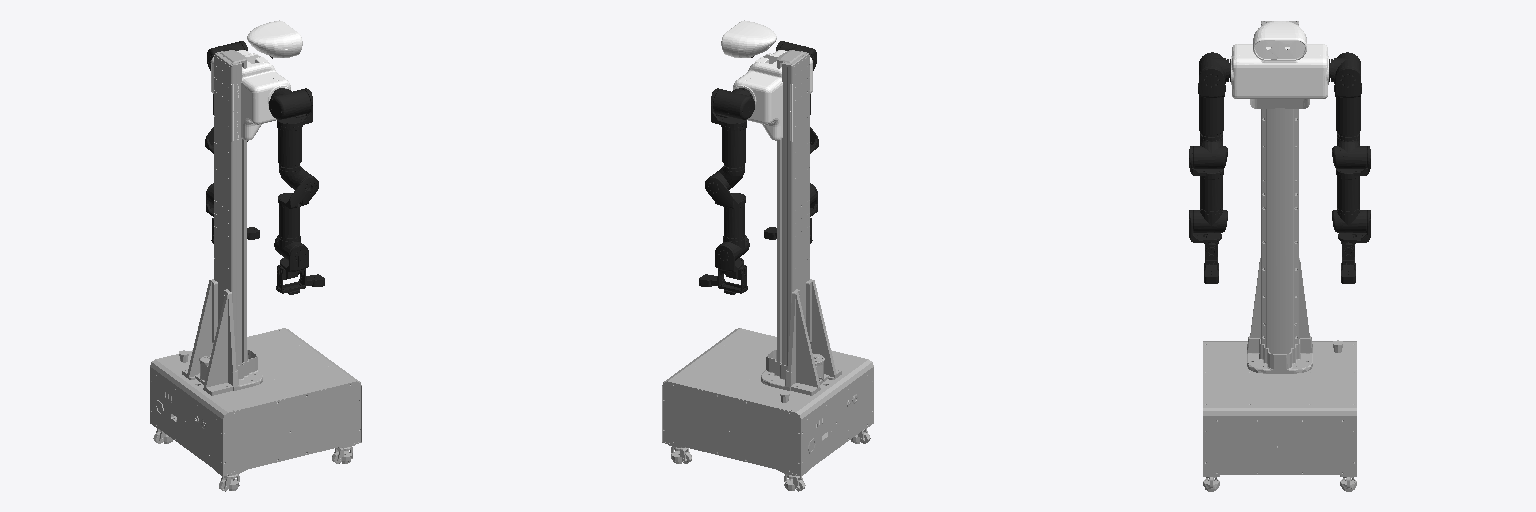
--- Render facts (derived) ---
The picture shows the robot from 3 angles, left to right: view 1: azimuth 30°, elevation 25°; view 2: azimuth 150°, elevation 25°; view 3: azimuth 270°, elevation 25°; orthographic projection.
Model ffw_bg2_follower with 33 links and 32 joints (24 revolute, 1 prismatic, 7 fixed), rooted at world, posed all joints at 0.
Links seen in each view (by area): view 1: base_link, arm_base_link, head_link2, arm_r_link4, arm_r_link2, arm_r_link1, arm_r_link6, arm_r_link7; view 2: base_link, arm_base_link, head_link2, arm_l_link4, arm_l_link2, arm_l_link1, arm_l_link6, arm_l_link7; view 3: base_link, arm_base_link, head_link2, arm_r_link2, arm_l_link2, arm_l_link4, arm_r_link4, arm_l_link3, arm_r_link3, arm_l_link5, arm_r_link5.
Link boxes in pixels (left/top/right/bottom): base_link: left=150, top=50, right=361, bottom=491; arm_base_link: left=211, top=50, right=290, bottom=141; head_link2: left=247, top=20, right=302, bottom=57; arm_r_link4: left=278, top=177, right=318, bottom=238; arm_r_link2: left=277, top=88, right=312, bottom=165; arm_r_link1: left=269, top=88, right=310, bottom=119; arm_r_link6: left=277, top=244, right=308, bottom=279; arm_r_link7: left=276, top=268, right=324, bottom=294; base_link: left=662, top=50, right=873, bottom=491; arm_base_link: left=733, top=50, right=812, bottom=141; head_link2: left=721, top=20, right=776, bottom=57; arm_l_link4: left=705, top=177, right=745, bottom=238; arm_l_link2: left=711, top=88, right=746, bottom=165; arm_l_link1: left=713, top=88, right=754, bottom=119; arm_l_link6: left=715, top=244, right=746, bottom=279; arm_l_link7: left=699, top=268, right=747, bottom=294; base_link: left=1203, top=21, right=1356, bottom=491; arm_base_link: left=1231, top=44, right=1328, bottom=108; head_link2: left=1253, top=21, right=1306, bottom=60; arm_r_link2: left=1198, top=67, right=1225, bottom=134; arm_l_link2: left=1334, top=67, right=1361, bottom=134; arm_l_link4: left=1336, top=146, right=1370, bottom=210; arm_r_link4: left=1189, top=146, right=1223, bottom=210; arm_l_link3: left=1332, top=132, right=1366, bottom=168; arm_r_link3: left=1193, top=132, right=1227, bottom=168; arm_l_link5: left=1332, top=207, right=1366, bottom=232; arm_r_link5: left=1193, top=207, right=1227, bottom=232.
Bounding box of the posed robot: 0.5723 × 0.6042 × 1.61 m (x, y, z).
Meshes: 24 distinct files referenced, 18 mesh visuals loaded (18 binary STL); not drawn: 12 (reference not matched to a file when rendering).

robot.urdf — ffw_bg2_follower:
<?xml version="1.0" ?>
<!-- =================================================================================== -->
<!-- |    This document was autogenerated by xacro from ffw_bg2_follower.urdf.xacro    | -->
<!-- |    EDITING THIS FILE BY HAND IS NOT RECOMMENDED                                 | -->
<!-- =================================================================================== -->
<robot name="ffw_bg2_follower">
  <link name="world"/>
  <joint name="world_fixed" type="fixed">
    <parent link="world"/>
    <child link="base_link"/>
    <origin rpy="0 0 0" xyz="0.0 0.0 0.0"/>
  </joint>
  <link name="base_link">
    <visual>
      <origin rpy="0 0 0" xyz="0 0 0"/>
      <geometry>
        <mesh filename="package://ffw_description/meshes/ffw_bg2_rev4_follower/base_mobile_assy.stl" scale="0.001 0.001 0.001"/>
      </geometry>
      <material name="silver">
        <color rgba="0.75 0.75 0.75 1"/>
      </material>
    </visual>
    <collision>
      <origin rpy="0 0 0" xyz="0 0 0"/>
      <geometry>
        <mesh filename="package://ffw_description/meshes/ffw_bg2_rev4_follower/base_mobile_assy.stl" scale="0.001 0.001 0.001"/>
      </geometry>
    </collision>
    <inertial>
      <origin xyz="-8.880608700e-03 -4.758427800e-03 3.886366400e-01"/>
      <mass value="5.435831600e+01"/>
      <inertia ixx="1.188633900e+06" ixy="6.334393100e+02" ixz="-1.454811600e+05" iyy="1.090949100e+06" iyz="-5.126785200e+03" izz="4.492808000e+05"/>
    </inertial>
  </link>
  <material name="aluminum">
    <color rgba="0.5 0.5 0.5 1"/>
  </material>
  <material name="plastic">
    <color rgba="0.1 0.1 0.1 1"/>
  </material>
  <joint name="lift_joint" type="prismatic">
    <parent link="base_link"/>
    <child link="arm_base_link"/>
    <origin rpy="0 0 0" xyz="0.0055 0 1.4316"/>
    <axis xyz="0 0 1"/>
    <limit effort="1000" lower="-0.5" upper="0.0" velocity="4.8"/>
    <dynamics damping="0.1"/>
  </joint>
  <link name="arm_base_link">
    <visual>
      <origin rpy="0 0 0" xyz="0 0 0"/>
      <geometry>
        <mesh filename="package://ffw_description/meshes/common/follower/body_arm_assy.stl" scale="0.001 0.001 0.001"/>
      </geometry>
      <material name="white">
        <color rgba="1 1 1 1"/>
      </material>
    </visual>
    <collision>
      <origin rpy="0 0 0" xyz="0 0 0"/>
      <geometry>
        <mesh filename="package://ffw_description/meshes/common/follower/body_arm_assy.stl" scale="0.001 0.001 0.001"/>
      </geometry>
    </collision>
    <inertial>
      <origin xyz="-1.492287800e-02 2.731522500e-03 -4.342526400e-02"/>
      <mass value="6.193955900e+00"/>
      <inertia ixx="1.082886600e-01" ixy="2.929692500e-06" ixz="-1.572750800e-03" iyy="5.432369700e-02" iyz="1.698970600e-03" izz="7.960084300e-02"/>
    </inertial>
  </link>
  <joint name="head_joint1" type="revolute">
    <parent link="arm_base_link"/>
    <child link="head_link1"/>
    <origin rpy="0 0 0" xyz="0.0494878 0 0.102123"/>
    <axis xyz="0 1 0"/>
    <limit effort="1000" lower="-0.2317" upper="0.6951" velocity="4.8"/>
    <dynamics damping="0.1"/>
  </joint>
  <link name="head_link1">
    <visual>
      <origin rpy="0 0 0" xyz="0 0 0"/>
      <geometry>
        <mesh filename="package://ffw_description/meshes/common/follower/head_link1.stl" scale="0.001 0.001 0.001"/>
      </geometry>
      <material name="grey">
        <color rgba="0.2 0.2 0.2 1"/>
      </material>
    </visual>
    <collision>
      <origin rpy="0 0 0" xyz="0 0 0"/>
      <geometry>
        <mesh filename="package://ffw_description/meshes/common/follower/head_link1.stl" scale="0.001 0.001 0.001"/>
      </geometry>
    </collision>
    <inertial>
      <origin xyz="2.533965600e-02 0.000000000e+00 4.774514600e-02"/>
      <mass value="1.235180200e-01"/>
      <inertia ixx="6.870965700e-03" ixy="8.592260200e-07" ixz="-3.002664500e-04" iyy="1.771510200e-02" iyz="-4.447973700e-07" izz="1.631113500e-02"/>
    </inertial>
  </link>
  <joint name="head_joint2" type="revolute">
    <parent link="head_link1"/>
    <child link="head_link2"/>
    <origin rpy="0 0 0" xyz="0.0365694 0 0.0563797"/>
    <axis xyz="0 0 1"/>
    <limit effort="1000" lower="-0.35" upper="0.35" velocity="4.8"/>
    <dynamics damping="0.1"/>
  </joint>
  <link name="head_link2">
    <visual>
      <origin rpy="0 0 0" xyz="0 0 0"/>
      <geometry>
        <mesh filename="package://ffw_description/meshes/common/follower/head_link2.stl" scale="0.001 0.001 0.001"/>
      </geometry>
      <material name="white">
        <color rgba="1 1 1 1"/>
      </material>
    </visual>
    <collision>
      <origin rpy="0 0 0" xyz="0 0 0"/>
      <geometry>
        <mesh filename="package://ffw_description/meshes/common/follower/head_link2.stl" scale="0.001 0.001 0.001"/>
      </geometry>
    </collision>
    <inertial>
      <origin xyz="3.052563400e-03 1.180475700e-03 -1.593280400e-02"/>
      <mass value="3.254213000e-01"/>
      <inertia ixx="8.907301100e-04" ixy="-5.211330800e-06" ixz="1.758054200e-05" iyy="7.631788100e-04" iyz="-1.022156300e-06" izz="1.339403400e-03"/>
    </inertial>
  </link>
  <joint name="arm_l_joint1" type="revolute">
    <parent link="arm_base_link"/>
    <child link="arm_l_link1"/>
    <origin rpy="0 0 0" xyz="0 0.1045 0"/>
    <axis xyz="0 1 0"/>
    <limit effort="1000" lower="-3.14" upper="3.14" velocity="4.8"/>
    <dynamics damping="0.1"/>
  </joint>
  <link name="arm_l_link1">
    <visual>
      <origin rpy="0 0 0" xyz="0 0 0"/>
      <geometry>
        <mesh filename="package://ffw_description/meshes/common/follower/arm_l_link1.stl" scale="0.001 0.001 0.001"/>
      </geometry>
      <material name="black">
        <color rgba="0.2 0.2 0.2 1"/>
      </material>
    </visual>
    <collision>
      <origin rpy="0 0 0" xyz="0 0 0"/>
      <geometry>
        <mesh filename="package://ffw_description/meshes/common/follower/arm_l_link1.stl" scale="0.001 0.001 0.001"/>
      </geometry>
    </collision>
    <inertial>
      <origin xyz="1.421037300e-02 1.155371800e-01 1.120644000e-04"/>
      <mass value="2.001332200e+00"/>
      <inertia ixx="2.507557700e-03" ixy="-2.196355800e-04" ixz="1.151251900e-05" iyy="2.865299700e-03" iyz="-2.311007900e-06" izz="3.365371600e-03"/>
    </inertial>
  </link>
  <joint name="arm_l_joint2" type="revolute">
    <parent link="arm_l_link1"/>
    <child link="arm_l_link2"/>
    <origin rpy="0 0 0" xyz="0 0.123 0"/>
    <axis xyz="1 0 0"/>
    <limit effort="1000" lower="0.0" upper="3.14" velocity="4.8"/>
    <dynamics damping="0.1"/>
  </joint>
  <link name="arm_l_link2">
    <visual>
      <origin rpy="0 0 0" xyz="0 0 0"/>
      <geometry>
        <mesh filename="package://ffw_description/meshes/common/follower/arm_l_link2.stl" scale="0.001 0.001 0.001"/>
      </geometry>
      <material name="black">
        <color rgba="0.2 0.2 0.2 1"/>
      </material>
    </visual>
    <collision>
      <origin rpy="0 0 0" xyz="0 0 0"/>
      <geometry>
        <mesh filename="package://ffw_description/meshes/common/follower/arm_l_link2.stl" scale="0.001 0.001 0.001"/>
      </geometry>
    </collision>
    <inertial>
      <origin xyz="9.109841300e-03 -1.053016500e-04 -1.438640700e-01"/>
      <mass value="2.128261000e+00"/>
      <inertia ixx="9.976166600e-03" ixy="-1.420641600e-06" ixz="-2.370609000e-03" iyy="1.088835300e-02" iyz="4.832141500e-06" izz="3.168582700e-03"/>
    </inertial>
  </link>
  <joint name="arm_l_joint3" type="revolute">
    <parent link="arm_l_link2"/>
    <child link="arm_l_link3"/>
    <origin rpy="0 0 0" xyz="0 0 -0.165"/>
    <axis xyz="0 0 1"/>
    <limit effort="1000" lower="-3.14" upper="3.14" velocity="4.8"/>
    <dynamics damping="0.1"/>
  </joint>
  <link name="arm_l_link3">
    <visual>
      <origin rpy="0 0 0" xyz="0 0 0"/>
      <geometry>
        <mesh filename="package://ffw_description/meshes/common/follower/arm_l_link3.stl" scale="0.001 0.001 0.001"/>
      </geometry>
      <material name="black">
        <color rgba="0.2 0.2 0.2 1"/>
      </material>
    </visual>
    <collision>
      <origin rpy="0 0 0" xyz="0 0 0"/>
      <geometry>
        <mesh filename="package://ffw_description/meshes/common/follower/arm_l_link3.stl" scale="0.001 0.001 0.001"/>
      </geometry>
    </collision>
    <inertial>
      <origin xyz="2.987537300e-02 1.391394900e-02 -1.210139000e-01"/>
      <mass value="1.684755100e+00"/>
      <inertia ixx="2.878077200e-03" ixy="-2.615265200e-04" ixz="6.679408300e-04" iyy="2.707096100e-03" iyz="3.296252200e-04" izz="2.566350600e-03"/>
    </inertial>
  </link>
  <joint name="arm_l_joint4" type="revolute">
    <parent link="arm_l_link3"/>
    <child link="arm_l_link4"/>
    <origin rpy="0 0 0" xyz="0.041004 0 -0.135"/>
    <axis xyz="0 1 0"/>
    <limit effort="1000" lower="-2.9361" upper="1.0786" velocity="4.8"/>
    <dynamics damping="0.1"/>
  </joint>
  <link name="arm_l_link4">
    <visual>
      <origin rpy="0 0 0" xyz="0 0 0"/>
      <geometry>
        <mesh filename="package://ffw_description/meshes/common/follower/arm_l_link4.stl" scale="0.001 0.001 0.001"/>
      </geometry>
      <material name="black">
        <color rgba="0.2 0.2 0.2 1"/>
      </material>
    </visual>
    <collision>
      <origin rpy="0 0 0" xyz="0 0 0"/>
      <geometry>
        <mesh filename="package://ffw_description/meshes/common/follower/arm_l_link4.stl" scale="0.001 0.001 0.001"/>
      </geometry>
    </collision>
    <inertial>
      <origin xyz="-3.853865300e-02 9.807228600e-03 -1.313122800e-01"/>
      <mass value="1.508214400e+00"/>
      <inertia ixx="6.252303800e-03" ixy="-2.162798200e-04" ixz="-5.113660100e-04" iyy="5.705086400e-03" iyz="-1.597759100e-03" izz="2.098027800e-03"/>
    </inertial>
  </link>
  <joint name="arm_l_joint5" type="revolute">
    <parent link="arm_l_link4"/>
    <child link="arm_l_link5"/>
    <origin rpy="0 0 0" xyz="-0.041004 0 -0.1489"/>
    <axis xyz="0 0 1"/>
    <limit effort="1000" lower="-3.14" upper="3.14" velocity="4.8"/>
    <dynamics damping="0.1"/>
  </joint>
  <link name="arm_l_link5">
    <visual>
      <origin rpy="0 0 0" xyz="0 0 0"/>
      <geometry>
        <mesh filename="package://ffw_description/meshes/common/follower/arm_l_link5.stl" scale="0.001 0.001 0.001"/>
      </geometry>
      <material name="black">
        <color rgba="0.2 0.2 0.2 1"/>
      </material>
    </visual>
    <collision>
      <origin rpy="0 0 0" xyz="0 0 0"/>
      <geometry>
        <mesh filename="package://ffw_description/meshes/common/follower/arm_l_link5.stl" scale="0.001 0.001 0.001"/>
      </geometry>
    </collision>
    <inertial>
      <origin xyz="-3.122616100e-05 1.681922700e-02 -9.873815600e-02"/>
      <mass value="1.391783100e+00"/>
      <inertia ixx="1.885672100e-03" ixy="1.326915800e-06" ixz="2.418484800e-07" iyy="1.285272900e-03" iyz="1.287761700e-04" izz="1.689335300e-03"/>
    </inertial>
  </link>
  <joint name="arm_l_joint6" type="revolute">
    <parent link="arm_l_link5"/>
    <child link="arm_l_link6"/>
    <origin rpy="0 0 0" xyz="0 0 -0.1041"/>
    <axis xyz="0 1 0"/>
    <limit effort="1000" lower="-1.57" upper="1.57" velocity="4.8"/>
    <dynamics damping="0.1"/>
  </joint>
  <link name="arm_l_link6">
    <visual>
      <origin rpy="0 0 0" xyz="0 0 0"/>
      <geometry>
        <mesh filename="package://ffw_description/meshes/common/follower/arm_l_link6.stl" scale="0.001 0.001 0.001"/>
      </geometry>
      <material name="black">
        <color rgba="0.2 0.2 0.2 1"/>
      </material>
    </visual>
    <collision>
      <origin rpy="0 0 0" xyz="0 0 0"/>
      <geometry>
        <mesh filename="package://ffw_description/meshes/common/follower/arm_l_link6.stl" scale="0.001 0.001 0.001"/>
      </geometry>
    </collision>
    <inertial>
      <origin xyz="2.243891700e-03 1.876410500e-02 -6.480557600e-02"/>
      <mass value="6.577074100e-01"/>
      <inertia ixx="1.416138700e-03" ixy="2.839010300e-05" ixz="3.582229500e-05" iyy="1.142334400e-03" iyz="-5.356836800e-04" izz="1.017517600e-03"/>
    </inertial>
  </link>
  <joint name="arm_l_joint7" type="revolute">
    <parent link="arm_l_link6"/>
    <child link="arm_l_link7"/>
    <origin rpy="0 0 0" xyz="0 0 -0.0885"/>
    <axis xyz="1 0 0"/>
    <limit effort="1000" lower="-1.8201" upper="1.5804" velocity="4.8"/>
    <dynamics damping="0.1"/>
  </joint>
  <link name="arm_l_link7">
    <visual>
      <origin rpy="0 0 0" xyz="0 0 0"/>
      <geometry>
        <mesh filename="package://ffw_description/meshes/common/follower/arm_l_link7.stl" scale="0.001 0.001 0.001"/>
      </geometry>
      <material name="black">
        <color rgba="0.2 0.2 0.2 1"/>
      </material>
    </visual>
    <collision>
      <origin rpy="0 0 0" xyz="0 0 0"/>
      <geometry>
        <mesh filename="package://ffw_description/meshes/common/follower/arm_l_link7.stl" scale="0.001 0.001 0.001"/>
      </geometry>
    </collision>
    <inertial>
      <origin xyz="2.550659300e-02 0.000000000e+00 -5.539533100e-02"/>
      <mass value="1.668563000e-01"/>
      <inertia ixx="1.035867900e-04" ixy="0.000000000e+00" ixz="1.098870100e-05" iyy="4.524528700e-04" iyz="0.000000000e+00" izz="4.156884400e-04"/>
    </inertial>
  </link>
  <!-- camera body, with origin at bottom screw mount -->
  <joint name="camera_l_joint" type="fixed">
    <origin rpy="-1.57079632679 1.66678943569 0" xyz="0.108236 -0.021 -0.062552"/>
    <parent link="arm_l_link7"/>
    <child link="camera_l_bottom_screw_frame"/>
  </joint>
  <link name="camera_l_bottom_screw_frame"/>
  <joint name="camera_l_link_joint" type="fixed">
    <origin rpy="0 0 0" xyz="0.01085 0.009 0.021"/>
    <parent link="camera_l_bottom_screw_frame"/>
    <child link="camera_l_link"/>
  </joint>
  <link name="camera_l_link">
    <visual>
      <!-- the mesh origin is at front plate in between the two infrared camera axes -->
      <origin rpy="1.5707963267948966 0 1.5707963267948966" xyz="0.0038 -0.009 0"/>
      <geometry>
        <mesh filename="package://realsense2_description/meshes/d405.stl" scale="0.001 0.001 0.001"/>
      </geometry>
      <material name="aluminum"/>
    </visual>
    <collision>
      <origin rpy="0 0 0" xyz="-0.0078 -0.009 0"/>
      <geometry>
        <box size="0.023 0.042 0.042"/>
      </geometry>
    </collision>
    <inertial>
      <!-- The following are not reliable values, and should not be used for modeling -->
      <mass value="0.072"/>
      <origin xyz="0 0 0"/>
      <inertia ixx="0.003881243" ixy="0.0" ixz="0.0" iyy="0.000498940" iyz="0.0" izz="0.003879257"/>
    </inertial>
  </link>
  <joint name="arm_r_joint1" type="revolute">
    <parent link="arm_base_link"/>
    <child link="arm_r_link1"/>
    <origin rpy="0 0 0" xyz="0 -0.1045 0"/>
    <axis xyz="0 1 0"/>
    <limit effort="1000" lower="-3.14" upper="3.14" velocity="4.8"/>
    <dynamics damping="0.1"/>
  </joint>
  <link name="arm_r_link1">
    <visual>
      <origin rpy="0 0 0" xyz="0 0 0"/>
      <geometry>
        <mesh filename="package://ffw_description/meshes/common/follower/arm_r_link1.stl" scale="0.001 0.001 0.001"/>
      </geometry>
      <material name="black">
        <color rgba="0.2 0.2 0.2 1"/>
      </material>
    </visual>
    <collision>
      <origin rpy="0 0 0" xyz="0 0 0"/>
      <geometry>
        <mesh filename="package://ffw_description/meshes/common/follower/arm_r_link1.stl" scale="0.001 0.001 0.001"/>
      </geometry>
    </collision>
    <inertial>
      <origin xyz="1.421037300e-02 -1.155371800e-01 -1.120644000e-04"/>
      <mass value="2.001332200e+00"/>
      <inertia ixx="2.507557700e-03" ixy="2.196355800e-04" ixz="-1.151251900e-05" iyy="2.865299700e-03" iyz="-2.311007900e-06" izz="3.365371600e-03"/>
    </inertial>
  </link>
  <joint name="arm_r_joint2" type="revolute">
    <parent link="arm_r_link1"/>
    <child link="arm_r_link2"/>
    <origin rpy="0 0 0" xyz="0 -0.123 0"/>
    <axis xyz="1 0 0"/>
    <limit effort="1000" lower="-3.14" upper="0" velocity="4.8"/>
    <dynamics damping="0.1"/>
  </joint>
  <link name="arm_r_link2">
    <visual>
      <origin rpy="0 0 0" xyz="0 0 0"/>
      <geometry>
        <mesh filename="package://ffw_description/meshes/common/follower/arm_r_link2.stl" scale="0.001 0.001 0.001"/>
      </geometry>
      <material name="black">
        <color rgba="0.2 0.2 0.2 1"/>
      </material>
    </visual>
    <collision>
      <origin rpy="0 0 0" xyz="0 0 0"/>
      <geometry>
        <mesh filename="package://ffw_description/meshes/common/follower/arm_r_link2.stl" scale="0.001 0.001 0.001"/>
      </geometry>
    </collision>
    <inertial>
      <origin xyz="9.109841300e-03 -1.053016500e-04 -1.438640700e-01"/>
      <mass value="2.128261000e+00"/>
      <inertia ixx="9.976166600e-03" ixy="-1.420641600e-06" ixz="-2.370609000e-03" iyy="1.088835300e-02" iyz="4.832141500e-06" izz="3.168582700e-03"/>
    </inertial>
  </link>
  <joint name="arm_r_joint3" type="revolute">
    <parent link="arm_r_link2"/>
    <child link="arm_r_link3"/>
    <origin rpy="0 0 0" xyz="0 0 -0.165"/>
    <axis xyz="0 0 1"/>
    <limit effort="1000" lower="-3.14" upper="3.14" velocity="4.8"/>
    <dynamics damping="0.1"/>
  </joint>
  <link name="arm_r_link3">
    <visual>
      <origin rpy="0 0 0" xyz="0 0 0"/>
      <geometry>
        <mesh filename="package://ffw_description/meshes/common/follower/arm_r_link3.stl" scale="0.001 0.001 0.001"/>
      </geometry>
      <material name="black">
        <color rgba="0.2 0.2 0.2 1"/>
      </material>
    </visual>
    <collision>
      <origin rpy="0 0 0" xyz="0 0 0"/>
      <geometry>
        <mesh filename="package://ffw_description/meshes/common/follower/arm_r_link3.stl" scale="0.001 0.001 0.001"/>
      </geometry>
    </collision>
    <inertial>
      <origin xyz="2.984576500e-02 -1.392295900e-02 -1.210435100e-01"/>
      <mass value="1.684755100e+00"/>
      <inertia ixx="2.877971200e-03" ixy="2.632159900e-04" ixz="6.677998500e-04" iyy="2.707378400e-03" iyz="-3.275929900e-04" izz="2.563528600e-03"/>
    </inertial>
  </link>
  <joint name="arm_r_joint4" type="revolute">
    <parent link="arm_r_link3"/>
    <child link="arm_r_link4"/>
    <origin rpy="0 0 0" xyz="0.041004 0 -0.135"/>
    <axis xyz="0 1 0"/>
    <limit effort="1000" lower="-2.9361" upper="1.0786" velocity="4.8"/>
    <dynamics damping="0.1"/>
  </joint>
  <link name="arm_r_link4">
    <visual>
      <origin rpy="0 0 0" xyz="0 0 0"/>
      <geometry>
        <mesh filename="package://ffw_description/meshes/common/follower/arm_r_link4.stl" scale="0.001 0.001 0.001"/>
      </geometry>
      <material name="black">
        <color rgba="0.2 0.2 0.2 1"/>
      </material>
    </visual>
    <collision>
      <origin rpy="0 0 0" xyz="0 0 0"/>
      <geometry>
        <mesh filename="package://ffw_description/meshes/common/follower/arm_r_link4.stl" scale="0.001 0.001 0.001"/>
      </geometry>
    </collision>
    <inertial>
      <origin xyz="-3.867746800e-02 -9.308009900e-03 -1.322971300e-01"/>
      <mass value="1.494251100e+00"/>
      <inertia ixx="6.032357900e-03" ixy="2.028997300e-04" ixz="-4.854051900e-04" iyy="5.536423500e-03" iyz="1.507124600e-03" izz="2.032999700e-03"/>
    </inertial>
  </link>
  <joint name="arm_r_joint5" type="revolute">
    <parent link="arm_r_link4"/>
    <child link="arm_r_link5"/>
    <origin rpy="0 0 0" xyz="-0.041004 0 -0.1489"/>
    <axis xyz="0 0 1"/>
    <limit effort="1000" lower="-3.14" upper="3.14" velocity="4.8"/>
    <dynamics damping="0.1"/>
  </joint>
  <link name="arm_r_link5">
    <visual>
      <origin rpy="0 0 0" xyz="0 0 0"/>
      <geometry>
        <mesh filename="package://ffw_description/meshes/common/follower/arm_r_link5.stl" scale="0.001 0.001 0.001"/>
      </geometry>
      <material name="black">
        <color rgba="0.2 0.2 0.2 1"/>
      </material>
    </visual>
    <collision>
      <origin rpy="0 0 0" xyz="0 0 0"/>
      <geometry>
        <mesh filename="package://ffw_description/meshes/common/follower/arm_r_link5.stl" scale="0.001 0.001 0.001"/>
      </geometry>
    </collision>
    <inertial>
      <origin xyz="8.387686000e-04 -1.679849900e-02 -9.873815600e-02"/>
      <mass value="1.391783100e+00"/>
      <inertia ixx="1.882492800e-03" ixy="3.480391000e-05" ixz="6.806743100e-06" iyy="1.288452200e-03" iyz="-1.285963700e-04" izz="1.689335300e-03"/>
    </inertial>
  </link>
  <joint name="arm_r_joint6" type="revolute">
    <parent link="arm_r_link5"/>
    <child link="arm_r_link6"/>
    <origin rpy="0 0 0" xyz="0 0 -0.1041"/>
    <axis xyz="0 1 0"/>
    <limit effort="1000" lower="-1.57" upper="1.57" velocity="4.8"/>
    <dynamics damping="0.1"/>
  </joint>
  <link name="arm_r_link6">
    <visual>
      <origin rpy="0 0 0" xyz="0 0 0"/>
      <geometry>
        <mesh filename="package://ffw_description/meshes/common/follower/arm_r_link6.stl" scale="0.001 0.001 0.001"/>
      </geometry>
      <material name="black">
        <color rgba="0.2 0.2 0.2 1"/>
      </material>
    </visual>
    <collision>
      <origin rpy="0 0 0" xyz="0 0 0"/>
      <geometry>
        <mesh filename="package://ffw_description/meshes/common/follower/arm_r_link6.stl" scale="0.001 0.001 0.001"/>
      </geometry>
    </collision>
    <inertial>
      <origin xyz="3.267491200e-03 -1.861259000e-02 -6.479261600e-02"/>
      <mass value="6.577074100e-01"/>
      <inertia ixx="1.417976200e-03" ixy="-1.325841000e-05" ixz="6.534407900e-06" iyy="1.139647400e-03" iyz="5.366707300e-04" izz="1.017476200e-03"/>
    </inertial>
  </link>
  <joint name="arm_r_joint7" type="revolute">
    <parent link="arm_r_link6"/>
    <child link="arm_r_link7"/>
    <origin rpy="0 0 0" xyz="0 0 -0.0885"/>
    <axis xyz="1 0 0"/>
    <limit effort="1000" lower="-1.5804" upper="1.8201" velocity="4.8"/>
    <dynamics damping="0.1"/>
  </joint>
  <link name="arm_r_link7">
    <visual>
      <origin rpy="0 0 0" xyz="0 0 0"/>
      <geometry>
        <mesh filename="package://ffw_description/meshes/common/follower/arm_r_link7.stl" scale="0.001 0.001 0.001"/>
      </geometry>
      <material name="black">
        <color rgba="0.2 0.2 0.2 1"/>
      </material>
    </visual>
    <collision>
      <origin rpy="0 0 0" xyz="0 0 0"/>
      <geometry>
        <mesh filename="package://ffw_description/meshes/common/follower/arm_r_link7.stl" scale="0.001 0.001 0.001"/>
      </geometry>
    </collision>
    <inertial>
      <origin xyz="2.546836200e-02 1.396001200e-03 -5.539533100e-02"/>
      <mass value="1.668563000e-01"/>
      <inertia ixx="1.046318100e-04" ixy="-1.906515900e-05" ixz="1.097223300e-05" iyy="4.514078500e-04" iyz="6.013716400e-07" izz="4.156884400e-04"/>
    </inertial>
  </link>
  <!-- camera body, with origin at bottom screw mount -->
  <joint name="camera_r_joint" type="fixed">
    <origin rpy="-1.57079632679 1.66678943569 0" xyz="0.108236 -0.021 -0.062552"/>
    <parent link="arm_r_link7"/>
    <child link="camera_r_bottom_screw_frame"/>
  </joint>
  <link name="camera_r_bottom_screw_frame"/>
  <joint name="camera_r_link_joint" type="fixed">
    <origin rpy="0 0 0" xyz="0.01085 0.009 0.021"/>
    <parent link="camera_r_bottom_screw_frame"/>
    <child link="camera_r_link"/>
  </joint>
  <link name="camera_r_link">
    <visual>
      <!-- the mesh origin is at front plate in between the two infrared camera axes -->
      <origin rpy="1.5707963267948966 0 1.5707963267948966" xyz="0.0038 -0.009 0"/>
      <geometry>
        <mesh filename="package://realsense2_description/meshes/d405.stl" scale="0.001 0.001 0.001"/>
      </geometry>
      <material name="aluminum"/>
    </visual>
    <collision>
      <origin rpy="0 0 0" xyz="-0.0078 -0.009 0"/>
      <geometry>
        <box size="0.023 0.042 0.042"/>
      </geometry>
    </collision>
    <inertial>
      <!-- The following are not reliable values, and should not be used for modeling -->
      <mass value="0.072"/>
      <origin xyz="0 0 0"/>
      <inertia ixx="0.003881243" ixy="0.0" ixz="0.0" iyy="0.000498940" iyz="0.0" izz="0.003879257"/>
    </inertial>
  </link>
  <joint name="gripper_l_joint" type="fixed">
    <origin rpy="0 3.14159265359 0" xyz="0 0 -0.078"/>
    <parent link="arm_l_link7"/>
    <child link="gripper_l_rh_p12_rn_base"/>
  </joint>
  <!-- base -->
  <link name="gripper_l_rh_p12_rn_base">
    <collision>
      <origin rpy="0 0 0" xyz="0 0 0"/>
      <geometry>
        <mesh filename="package://ffw_description/meshes/common/rh_p12_rn_a/base.stl" scale="0.001 0.001 0.001"/>
      </geometry>
    </collision>
    <visual>
      <origin rpy="0 0 0" xyz="0 0 0"/>
      <geometry>
        <mesh filename="package://ffw_description/meshes/common/rh_p12_rn_a/base.stl" scale="0.001 0.001 0.001"/>
      </geometry>
      <material name="grey">
        <color rgba="0.2 0.2 0.2 1"/>
      </material>
    </visual>
    <inertial>
      <origin rpy="0 0 0" xyz="0.000 0.000 0.032"/>
      <mass value="0.236"/>
      <inertia ixx="0.000001" ixy="0.0" ixz="0.0" iyy="0.000001" iyz="0.0" izz="0.000001"/>
    </inertial>
  </link>
  <!-- Joint -->
  <joint name="gripper_l_joint1" type="revolute">
    <parent link="gripper_l_rh_p12_rn_base"/>
    <child link="gripper_l_rh_p12_rn_r1"/>
    <origin rpy="0 0 0" xyz="0.0 0.008 0.048"/>
    <axis xyz="1 0 0"/>
    <limit effort="1000" lower="0.0" upper="1.1" velocity="6.5"/>
    <dynamics damping="0.7"/>
  </joint>
  <!-- rh_p12_rn_r1 -->
  <link name="gripper_l_rh_p12_rn_r1">
    <collision>
      <origin rpy="0 0 0" xyz="0 0 0"/>
      <geometry>
        <mesh filename="package://ffw_description/meshes/common/rh_p12_rn_a/r1.stl" scale="0.001 0.001 0.001"/>
      </geometry>
    </collision>
    <visual>
      <origin rpy="0 0 0" xyz="0 0 0"/>
      <geometry>
        <mesh filename="package://ffw_description/meshes/common/rh_p12_rn_a/r1.stl" scale="0.001 0.001 0.001"/>
      </geometry>
      <material name="grey">
        <color rgba="0.2 0.2 0.2 1"/>
      </material>
    </visual>
    <inertial>
      <origin rpy="0 0 0" xyz="0.000 0.034 0.004"/>
      <mass value="0.068"/>
      <inertia ixx="0.000001" ixy="0.0" ixz="0.0" iyy="0.000001" iyz="0.0" izz="0.000001"/>
    </inertial>
  </link>
  <!-- Right Joint 2 -->
  <joint name="gripper_l_joint2" type="revolute">
    <parent link="gripper_l_rh_p12_rn_r1"/>
    <child link="gripper_l_rh_p12_rn_r2"/>
    <origin rpy="0 0 0" xyz="0.0 0.0493634 0.0285"/>
    <axis xyz="-1 0 0"/>
    <limit effort="1000" lower="0.0" upper="1.0" velocity="6.5"/>
    <dynamics damping="0.7"/>
    <mimic joint="gripper_l_joint1" multiplier="1"/>
  </joint>
  <!-- rh_p12_rn_r2 -->
  <link name="gripper_l_rh_p12_rn_r2">
    <collision>
      <origin rpy="0 0 0" xyz="0 0 0"/>
      <geometry>
        <mesh filename="package://ffw_description/meshes/common/rh_p12_rn_a/r2.stl" scale="0.001 0.001 0.001"/>
      </geometry>
    </collision>
    <visual>
      <origin rpy="0 0 0" xyz="0 0 0"/>
      <geometry>
        <mesh filename="package://ffw_description/meshes/common/rh_p12_rn_a/r2.stl" scale="0.001 0.001 0.001"/>
      </geometry>
      <material name="grey">
        <color rgba="0.2 0.2 0.2 1"/>
      </material>
    </visual>
    <inertial>
      <origin rpy="0 0 0" xyz="0.000 0.006 0.011"/>
      <mass value="0.022"/>
      <inertia ixx="0.000001" ixy="0.0" ixz="0.0" iyy="0.000001" iyz="0.0" izz="0.000001"/>
    </inertial>
  </link>
  <!-- Left Joint 1 -->
  <joint name="gripper_l_joint3" type="revolute">
    <parent link="gripper_l_rh_p12_rn_base"/>
    <child link="gripper_l_rh_p12_rn_l1"/>
    <origin rpy="0 0 0" xyz="0.0 -0.008 0.048"/>
    <axis xyz="-1 0 0"/>
    <limit effort="1000" lower="0.0" upper="1.1" velocity="6.5"/>
    <dynamics damping="0.7"/>
    <mimic joint="gripper_l_joint1" multiplier="1"/>
  </joint>
  <!-- rh_p12_rn_l1 -->
  <link name="gripper_l_rh_p12_rn_l1">
    <collision>
      <origin rpy="0 0 0" xyz="0 0 0"/>
      <geometry>
        <mesh filename="package://ffw_description/meshes/common/rh_p12_rn_a/l1.stl" scale="0.001 0.001 0.001"/>
      </geometry>
    </collision>
    <visual>
      <origin rpy="0 0 0" xyz="0 0 0"/>
      <geometry>
        <mesh filename="package://ffw_description/meshes/common/rh_p12_rn_a/l1.stl" scale="0.001 0.001 0.001"/>
      </geometry>
      <material name="grey">
        <color rgba="0.2 0.2 0.2 1"/>
      </material>
    </visual>
    <inertial>
      <origin rpy="0 0 0" xyz="0.000 -0.034 0.004"/>
      <mass value="0.068"/>
      <inertia ixx="0.000001" ixy="0.0" ixz="0.0" iyy="0.000001" iyz="0.0" izz="0.000001"/>
    </inertial>
  </link>
  <!-- Left Joint 2 -->
  <joint name="gripper_l_joint4" type="revolute">
    <parent link="gripper_l_rh_p12_rn_l1"/>
    <child link="gripper_l_rh_p12_rn_l2"/>
    <origin rpy="0 0 0" xyz="0.0 -0.0493634 0.0285"/>
    <axis xyz="1 0 0"/>
    <limit effort="1000" lower="0.0" upper="1.0" velocity="6.5"/>
    <dynamics damping="0.7"/>
    <mimic joint="gripper_l_joint1" multiplier="1"/>
  </joint>
  <!-- rh_p12_rn_l2 -->
  <link name="gripper_l_rh_p12_rn_l2">
    <collision>
      <origin rpy="0 0 0" xyz="0 0 0"/>
      <geometry>
        <mesh filename="package://ffw_description/meshes/common/rh_p12_rn_a/l2.stl" scale="0.001 0.001 0.001"/>
      </geometry>
    </collision>
    <visual>
      <origin rpy="0 0 0" xyz="0 0 0"/>
      <geometry>
        <mesh filename="package://ffw_description/meshes/common/rh_p12_rn_a/l2.stl" scale="0.001 0.001 0.001"/>
      </geometry>
      <material name="grey">
        <color rgba="0.2 0.2 0.2 1"/>
      </material>
    </visual>
    <inertial>
      <origin rpy="0 0 0" xyz="0.000 -0.006 0.011"/>
      <mass value="0.022"/>
      <inertia ixx="0.000001" ixy="0.0" ixz="0.0" iyy="0.000001" iyz="0.0" izz="0.000001"/>
    </inertial>
  </link>
  <joint name="gripper_r_joint" type="fixed">
    <origin rpy="0 3.14159265359 0" xyz="0 0 -0.078"/>
    <parent link="arm_r_link7"/>
    <child link="gripper_r_rh_p12_rn_base"/>
  </joint>
  <!-- base -->
  <link name="gripper_r_rh_p12_rn_base">
    <collision>
      <origin rpy="0 0 0" xyz="0 0 0"/>
      <geometry>
        <mesh filename="package://ffw_description/meshes/common/rh_p12_rn_a/base.stl" scale="0.001 0.001 0.001"/>
      </geometry>
    </collision>
    <visual>
      <origin rpy="0 0 0" xyz="0 0 0"/>
      <geometry>
        <mesh filename="package://ffw_description/meshes/common/rh_p12_rn_a/base.stl" scale="0.001 0.001 0.001"/>
      </geometry>
      <material name="grey">
        <color rgba="0.2 0.2 0.2 1"/>
      </material>
    </visual>
    <inertial>
      <origin rpy="0 0 0" xyz="0.000 0.000 0.032"/>
      <mass value="0.236"/>
      <inertia ixx="0.000001" ixy="0.0" ixz="0.0" iyy="0.000001" iyz="0.0" izz="0.000001"/>
    </inertial>
  </link>
  <!-- Joint -->
  <joint name="gripper_r_joint1" type="revolute">
    <parent link="gripper_r_rh_p12_rn_base"/>
    <child link="gripper_r_rh_p12_rn_r1"/>
    <origin rpy="0 0 0" xyz="0.0 0.008 0.048"/>
    <axis xyz="1 0 0"/>
    <limit effort="1000" lower="0.0" upper="1.1" velocity="6.5"/>
    <dynamics damping="0.7"/>
  </joint>
  <!-- rh_p12_rn_r1 -->
  <link name="gripper_r_rh_p12_rn_r1">
    <collision>
      <origin rpy="0 0 0" xyz="0 0 0"/>
      <geometry>
        <mesh filename="package://ffw_description/meshes/common/rh_p12_rn_a/r1.stl" scale="0.001 0.001 0.001"/>
      </geometry>
    </collision>
    <visual>
      <origin rpy="0 0 0" xyz="0 0 0"/>
      <geometry>
        <mesh filename="package://ffw_description/meshes/common/rh_p12_rn_a/r1.stl" scale="0.001 0.001 0.001"/>
      </geometry>
      <material name="grey">
        <color rgba="0.2 0.2 0.2 1"/>
      </material>
    </visual>
    <inertial>
      <origin rpy="0 0 0" xyz="0.000 0.034 0.004"/>
      <mass value="0.068"/>
      <inertia ixx="0.000001" ixy="0.0" ixz="0.0" iyy="0.000001" iyz="0.0" izz="0.000001"/>
    </inertial>
  </link>
  <!-- Right Joint 2 -->
  <joint name="gripper_r_joint2" type="revolute">
    <parent link="gripper_r_rh_p12_rn_r1"/>
    <child link="gripper_r_rh_p12_rn_r2"/>
    <origin rpy="0 0 0" xyz="0.0 0.0493634 0.0285"/>
    <axis xyz="-1 0 0"/>
    <limit effort="1000" lower="0.0" upper="1.0" velocity="6.5"/>
    <dynamics damping="0.7"/>
    <mimic joint="gripper_r_joint1" multiplier="1"/>
  </joint>
  <!-- rh_p12_rn_r2 -->
  <link name="gripper_r_rh_p12_rn_r2">
    <collision>
      <origin rpy="0 0 0" xyz="0 0 0"/>
      <geometry>
        <mesh filename="package://ffw_description/meshes/common/rh_p12_rn_a/r2.stl" scale="0.001 0.001 0.001"/>
      </geometry>
    </collision>
    <visual>
      <origin rpy="0 0 0" xyz="0 0 0"/>
      <geometry>
        <mesh filename="package://ffw_description/meshes/common/rh_p12_rn_a/r2.stl" scale="0.001 0.001 0.001"/>
      </geometry>
      <material name="grey">
        <color rgba="0.2 0.2 0.2 1"/>
      </material>
    </visual>
    <inertial>
      <origin rpy="0 0 0" xyz="0.000 0.006 0.011"/>
      <mass value="0.022"/>
      <inertia ixx="0.000001" ixy="0.0" ixz="0.0" iyy="0.000001" iyz="0.0" izz="0.000001"/>
    </inertial>
  </link>
  <!-- Left Joint 1 -->
  <joint name="gripper_r_joint3" type="revolute">
    <parent link="gripper_r_rh_p12_rn_base"/>
    <child link="gripper_r_rh_p12_rn_l1"/>
    <origin rpy="0 0 0" xyz="0.0 -0.008 0.048"/>
    <axis xyz="-1 0 0"/>
    <limit effort="1000" lower="0.0" upper="1.1" velocity="6.5"/>
    <dynamics damping="0.7"/>
    <mimic joint="gripper_r_joint1" multiplier="1"/>
  </joint>
  <!-- rh_p12_rn_l1 -->
  <link name="gripper_r_rh_p12_rn_l1">
    <collision>
      <origin rpy="0 0 0" xyz="0 0 0"/>
      <geometry>
        <mesh filename="package://ffw_description/meshes/common/rh_p12_rn_a/l1.stl" scale="0.001 0.001 0.001"/>
      </geometry>
    </collision>
    <visual>
      <origin rpy="0 0 0" xyz="0 0 0"/>
      <geometry>
        <mesh filename="package://ffw_description/meshes/common/rh_p12_rn_a/l1.stl" scale="0.001 0.001 0.001"/>
      </geometry>
      <material name="grey">
        <color rgba="0.2 0.2 0.2 1"/>
      </material>
    </visual>
    <inertial>
      <origin rpy="0 0 0" xyz="0.000 -0.034 0.004"/>
      <mass value="0.068"/>
      <inertia ixx="0.000001" ixy="0.0" ixz="0.0" iyy="0.000001" iyz="0.0" izz="0.000001"/>
    </inertial>
  </link>
  <!-- Left Joint 2 -->
  <joint name="gripper_r_joint4" type="revolute">
    <parent link="gripper_r_rh_p12_rn_l1"/>
    <child link="gripper_r_rh_p12_rn_l2"/>
    <origin rpy="0 0 0" xyz="0.0 -0.0493634 0.0285"/>
    <axis xyz="1 0 0"/>
    <limit effort="1000" lower="0.0" upper="1.0" velocity="6.5"/>
    <dynamics damping="0.7"/>
    <mimic joint="gripper_r_joint1" multiplier="1"/>
  </joint>
  <!-- rh_p12_rn_l2 -->
  <link name="gripper_r_rh_p12_rn_l2">
    <collision>
      <origin rpy="0 0 0" xyz="0 0 0"/>
      <geometry>
        <mesh filename="package://ffw_description/meshes/common/rh_p12_rn_a/l2.stl" scale="0.001 0.001 0.001"/>
      </geometry>
    </collision>
    <visual>
      <origin rpy="0 0 0" xyz="0 0 0"/>
      <geometry>
        <mesh filename="package://ffw_description/meshes/common/rh_p12_rn_a/l2.stl" scale="0.001 0.001 0.001"/>
      </geometry>
      <material name="grey">
        <color rgba="0.2 0.2 0.2 1"/>
      </material>
    </visual>
    <inertial>
      <origin rpy="0 0 0" xyz="0.000 -0.006 0.011"/>
      <mass value="0.022"/>
      <inertia ixx="0.000001" ixy="0.0" ixz="0.0" iyy="0.000001" iyz="0.0" izz="0.000001"/>
    </inertial>
  </link>
</robot>
